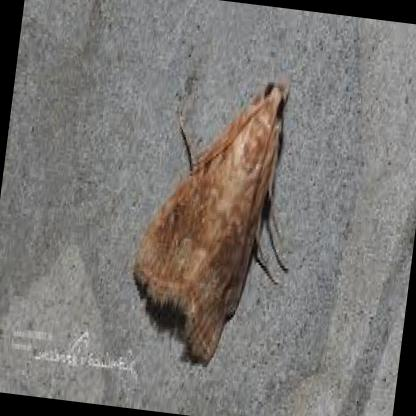Hellula undalis: (129, 72, 295, 372)
